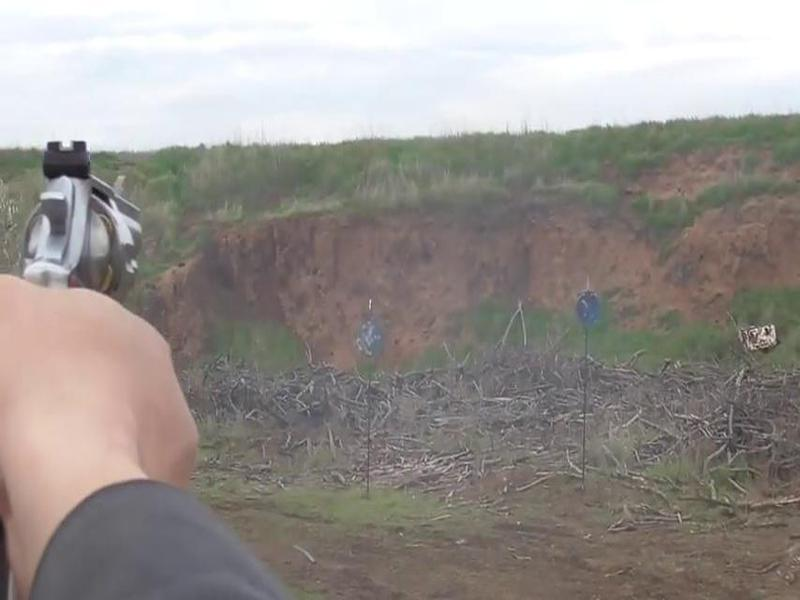Revolver: (12, 122, 159, 324)
